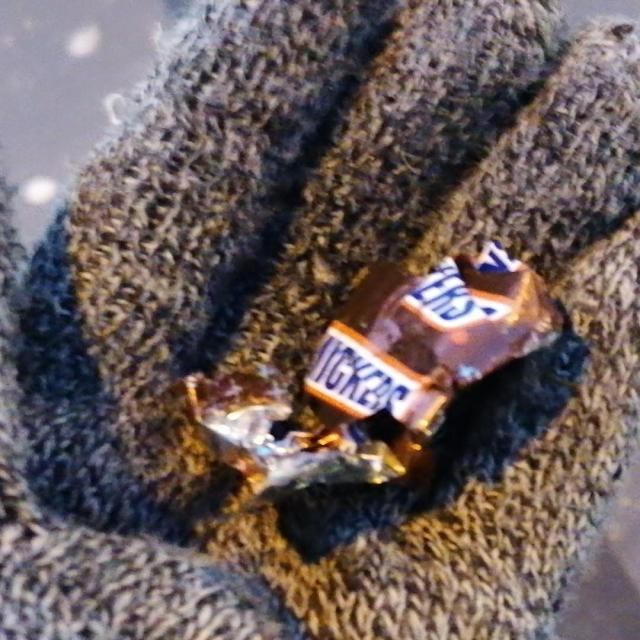Plastic: (164, 235, 567, 502)
